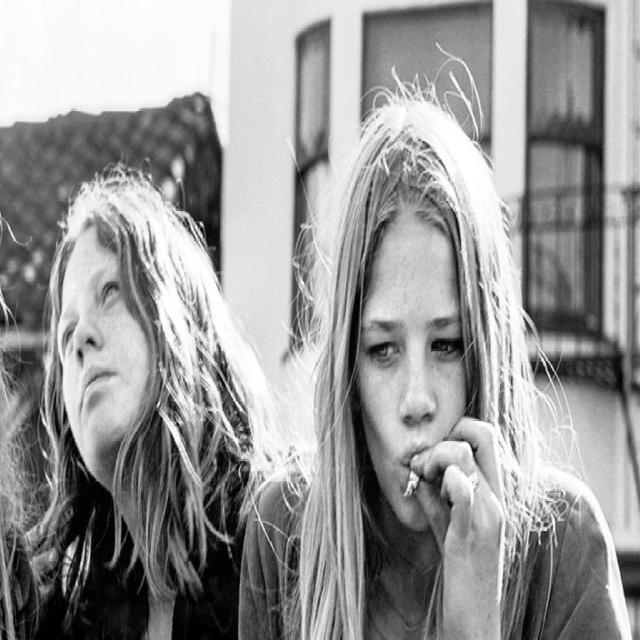smoking: (350, 135, 492, 534)
